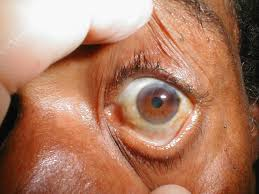pupil: (136, 84, 180, 124)
